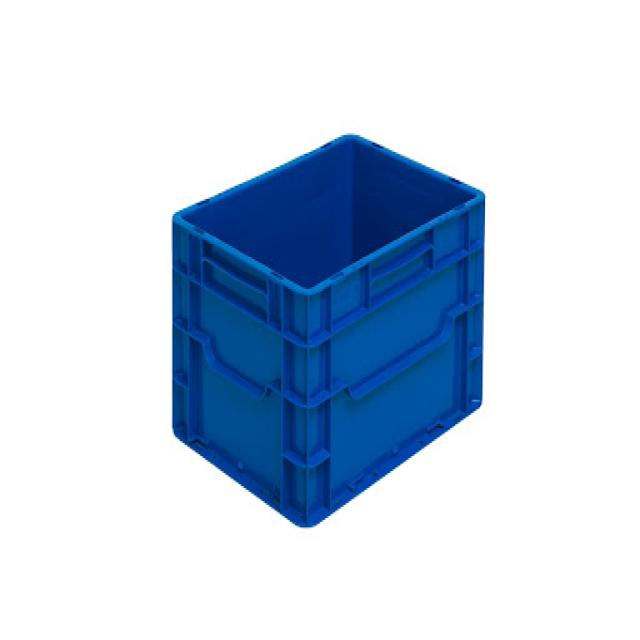basket: (175, 137, 483, 526)
